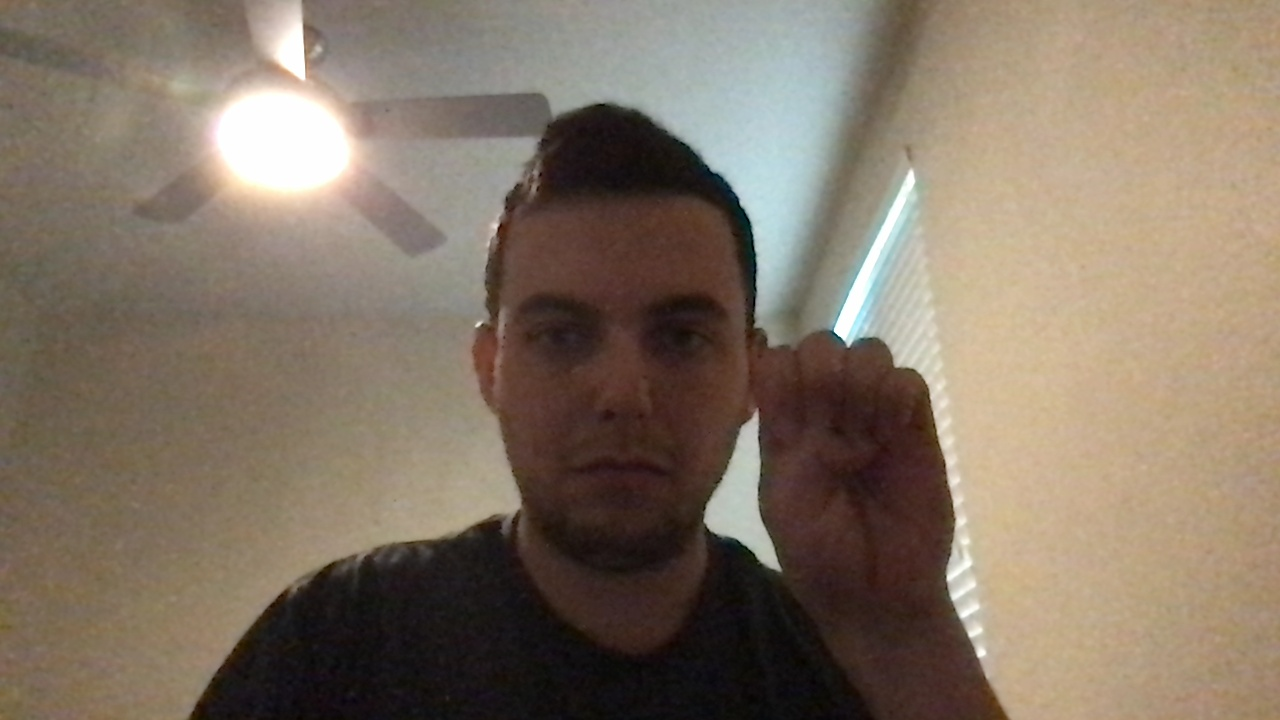e: (740, 324, 988, 609)
